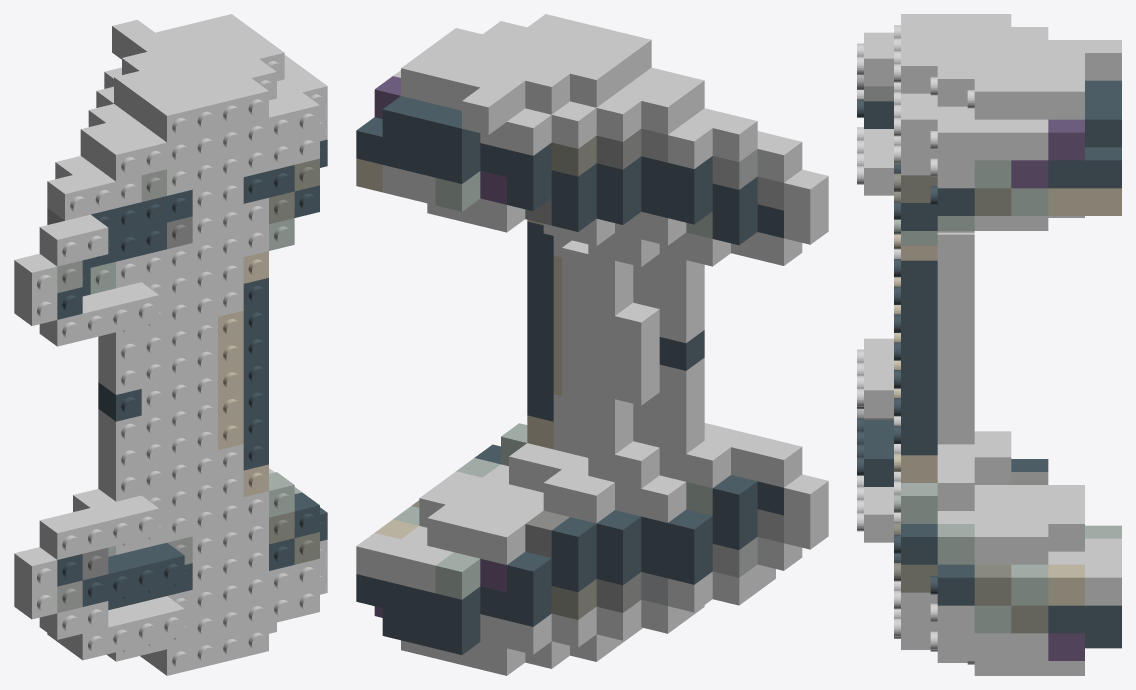
Rendered from full.glb.
3 views of the same model, side by side, from view 1: azimuth 30°, elevation 25°; view 2: azimuth 150°, elevation 25°; view 3: azimuth 270°, elevation 25° (orthographic). The views are drawn at different scales.
Parts seen in each view (by area): view 1: world; view 2: world; view 3: world.
Boxes of the visible parts, x1,y1,x2,y2 form: world: (14,14,327,675); world: (356,14,828,675); world: (857,14,1121,675).
Bounding box in the file's own units: 104 × 168 × 69.
